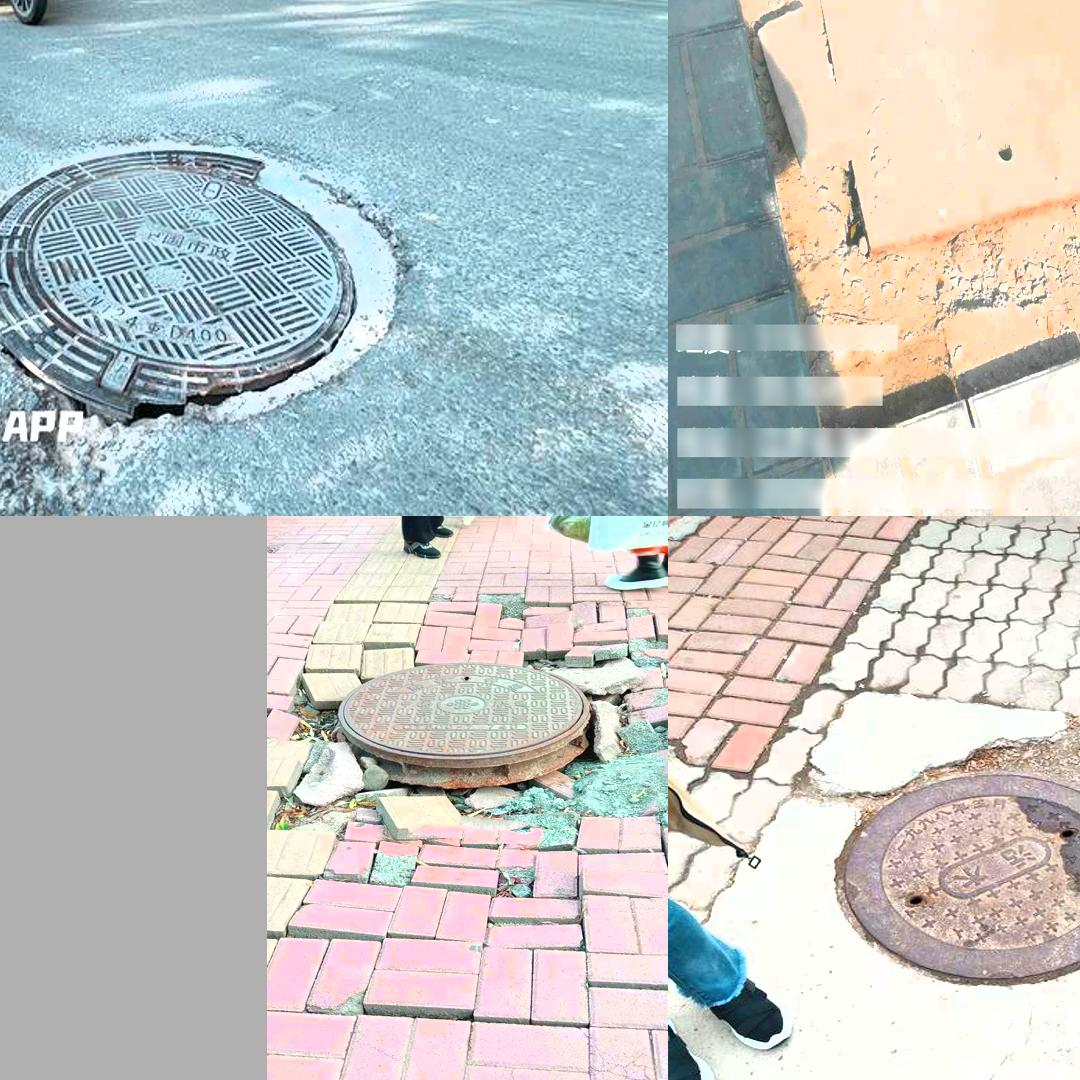circle: (0, 102, 470, 457), (705, 0, 1080, 353), (275, 607, 663, 904), (773, 721, 1080, 1020)
